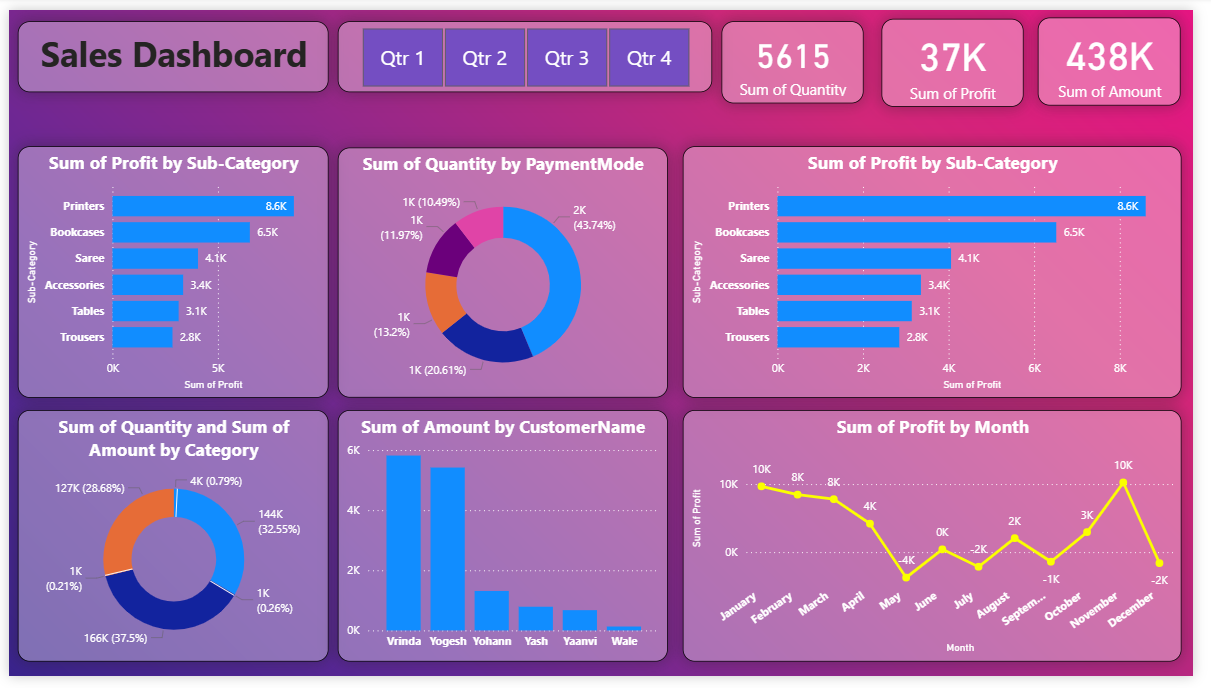

This screenshot's page, from the dashboard's own definition file:
{"tool":"powerbi","page":{"name":"Page 1","canvas":[1280,720],"ordinal":0},"visuals":[{"type":"textbox","box":[9.4,12.1,336.3,76.7],"z":0},{"type":"lineChart","fields":{"Category":["Orders.Order Date.Variation.Date Hierarchy.Month"],"Y":["Sum(Details.Profit)"]},"box":[727.7,431.8,539.4,271.7],"z":1000},{"type":"barChart","fields":{"Y":["Sum(Details.Profit)"],"Category":["Details.Sub-Category"]},"box":[727.7,148,539.4,271.7],"z":2000},{"type":"donutChart","fields":{"Y":["Sum(Details.Quantity)","Sum(Details.Amount)"],"Category":["Details.Category"]},"box":[9.4,431.8,336.3,271.7],"z":3000},{"type":"donutChart","fields":{"Y":["Sum(Details.Quantity)"],"Category":["Details.PaymentMode"]},"box":[355.1,149.3,356.5,270.4],"z":4000},{"type":"card","fields":{"Values":["Sum(Details.Amount)"]},"box":[1112.4,8.1,154.7,95.5],"z":5000},{"type":"card","fields":{"Values":["Sum(Details.Profit)"]},"box":[942.9,9.4,153.3,95.5],"z":6000},{"type":"card","fields":{"Values":["Sum(Details.Quantity)"]},"box":[770.7,12.1,153.3,88.8],"z":7000},{"type":"barChart","fields":{"Y":["Sum(Details.Profit)"],"Category":["Details.Sub-Category"]},"box":[9.4,148,336.3,271.7],"z":8000},{"type":"lineStackedColumnComboChart","fields":{"Category":["Orders.CustomerName"],"Y":["Sum(Details.Amount)"]},"box":[355.1,431.8,356.5,271.7],"z":9000},{"type":"slicer","fields":{"Values":["Orders.Order Date.Variation.Date Hierarchy.Quarter"]},"box":[355.1,12.1,404.9,76.7],"z":10000}]}

Visuals, with their boxes in screenshot pixels (x1, y1, x2, y2), scaled from the page's 1280x720 canvas onto the 1211x688 screenshot:
textbox: (9,12,327,85)
lineChart - Orders.Order Date.Variation.Date Hierarchy.Month x Sum(Details.Profit): (688,413,1199,672)
barChart - Sum(Details.Profit) x Details.Sub-Category: (688,141,1199,401)
donutChart - Sum(Details.Quantity) x Sum(Details.Amount): (9,413,327,672)
donutChart - Sum(Details.Quantity) x Details.PaymentMode: (336,143,673,401)
card - Sum(Details.Amount): (1052,8,1199,99)
card - Sum(Details.Profit): (892,9,1037,100)
card - Sum(Details.Quantity): (729,12,874,96)
barChart - Sum(Details.Profit) x Details.Sub-Category: (9,141,327,401)
lineStackedColumnComboChart - Orders.CustomerName x Sum(Details.Amount): (336,413,673,672)
slicer - Orders.Order Date.Variation.Date Hierarchy.Quarter: (336,12,719,85)
